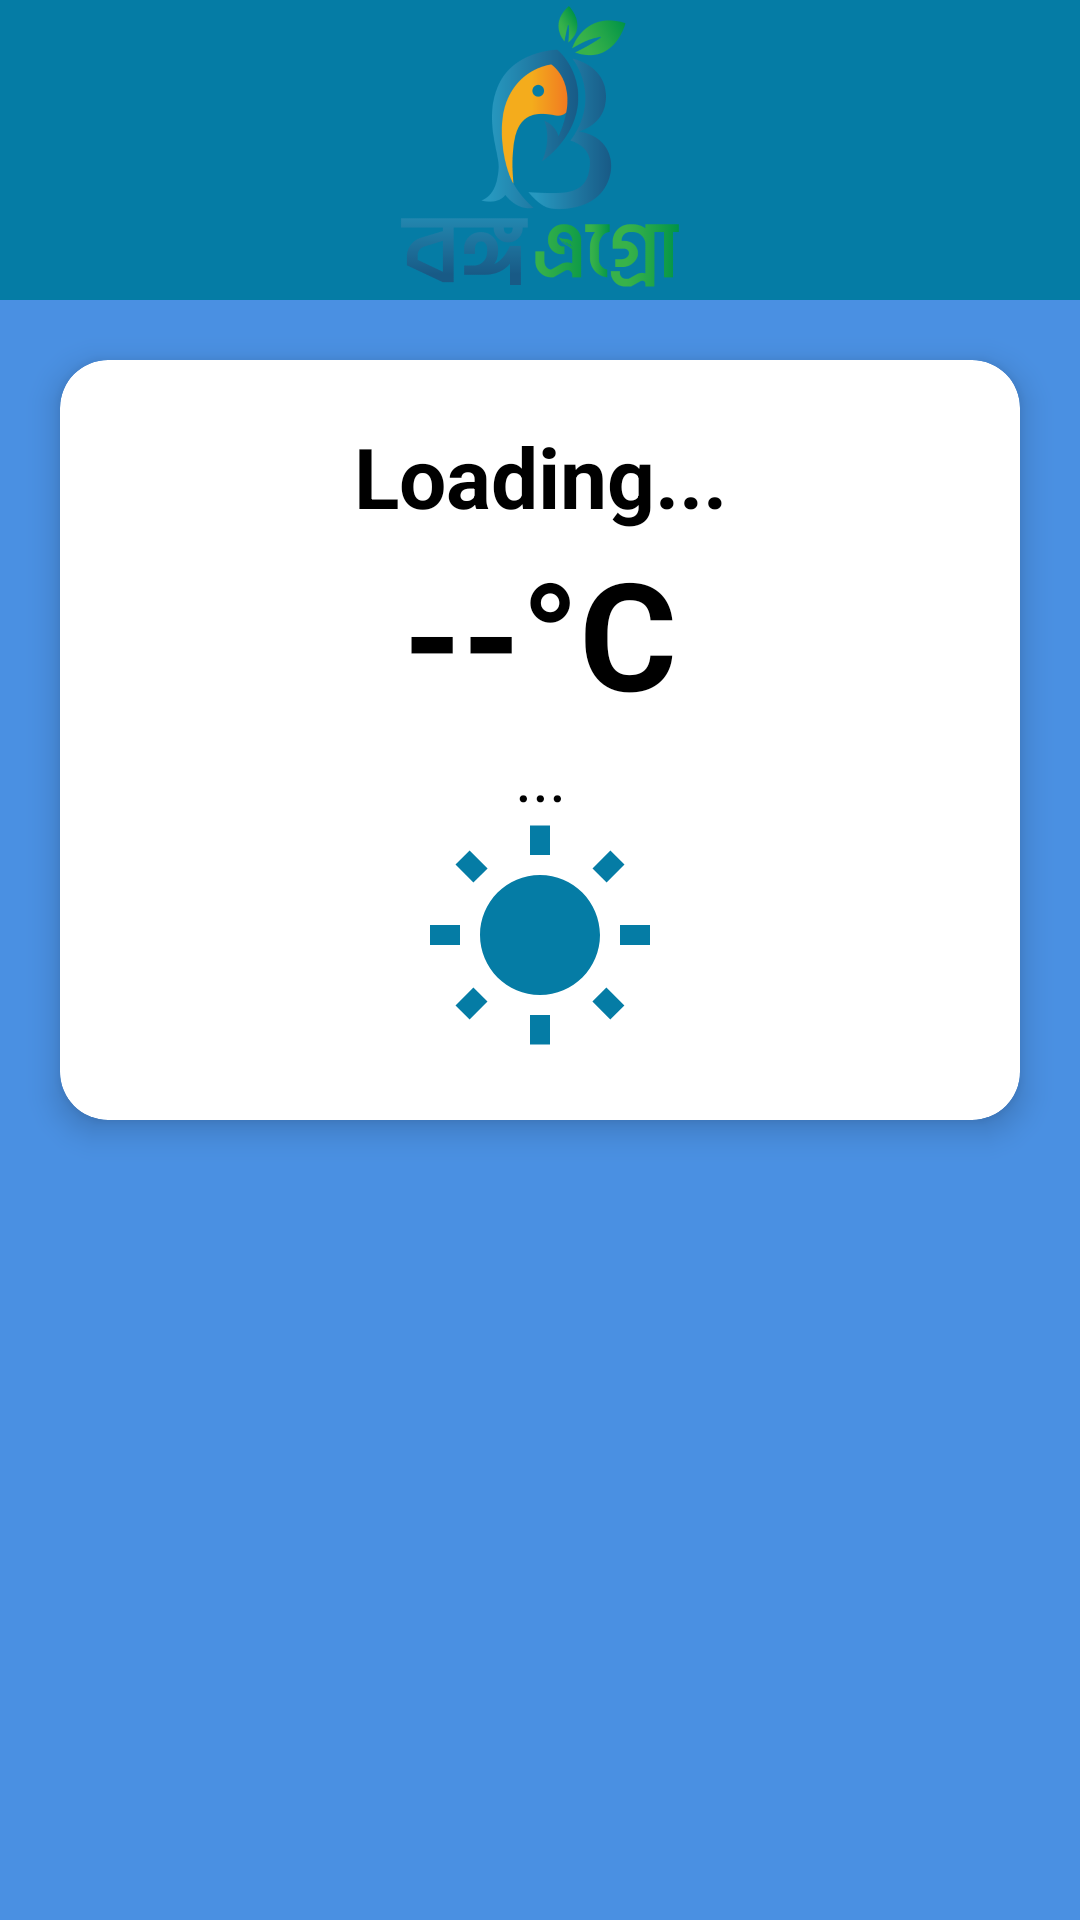

Where to tap for icons on this 1080px×1920px app screen, as point (x, y):
Weather Icon: point (540, 935)
